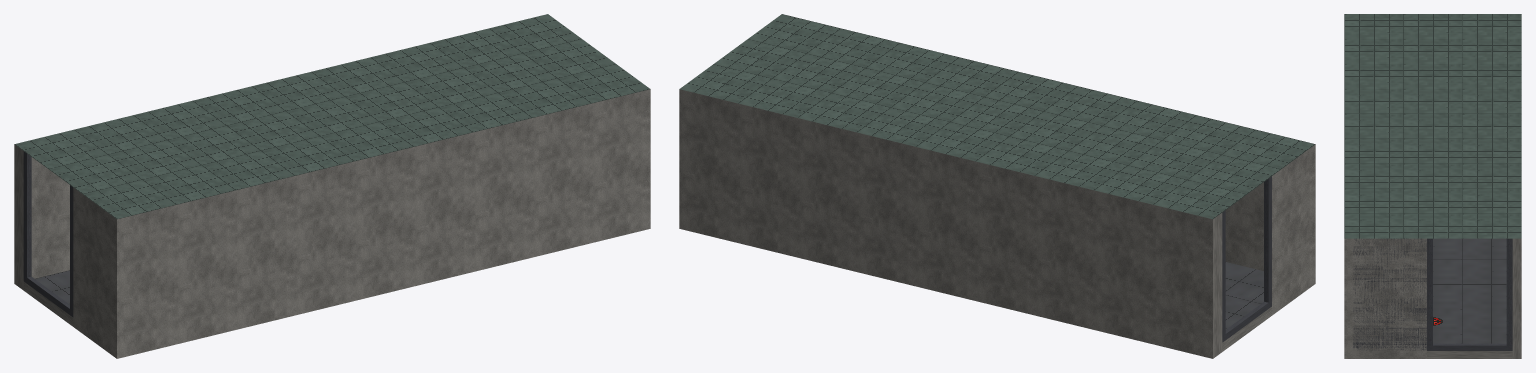
Rendered from gallery.obj.
3 views of the same model, side by side, from view 1: azimuth 30°, elevation 25°; view 2: azimuth 150°, elevation 25°; view 3: azimuth 270°, elevation 25° (orthographic). The views are drawn at different scales.
Size of the model in its own units: 720 by 180 by 240.
Materials: 5 (5 with a texture image).
